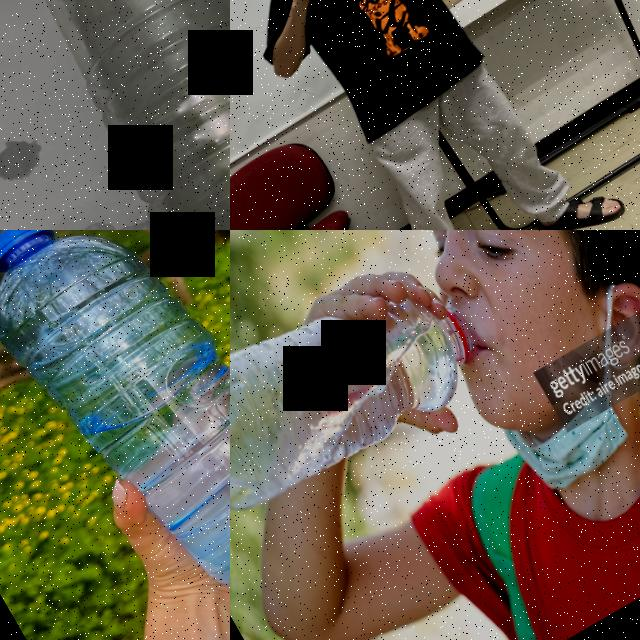bottle: (0, 230, 230, 640), (230, 231, 502, 530), (0, 0, 230, 230)
